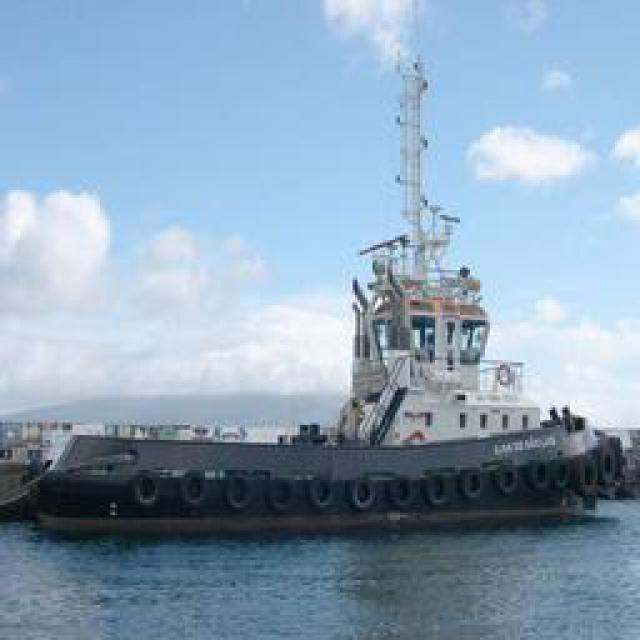Ship: (30, 106, 635, 524)
